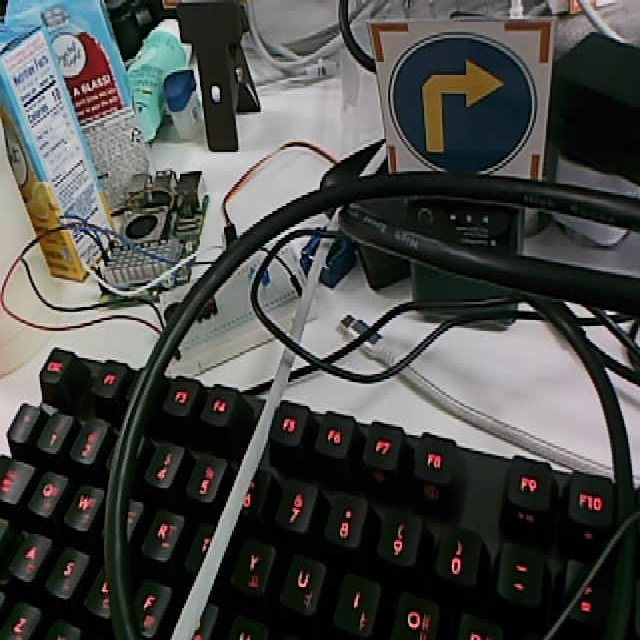right: (370, 16, 553, 177)
